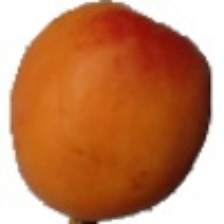apricot: (50, 37, 192, 177)
